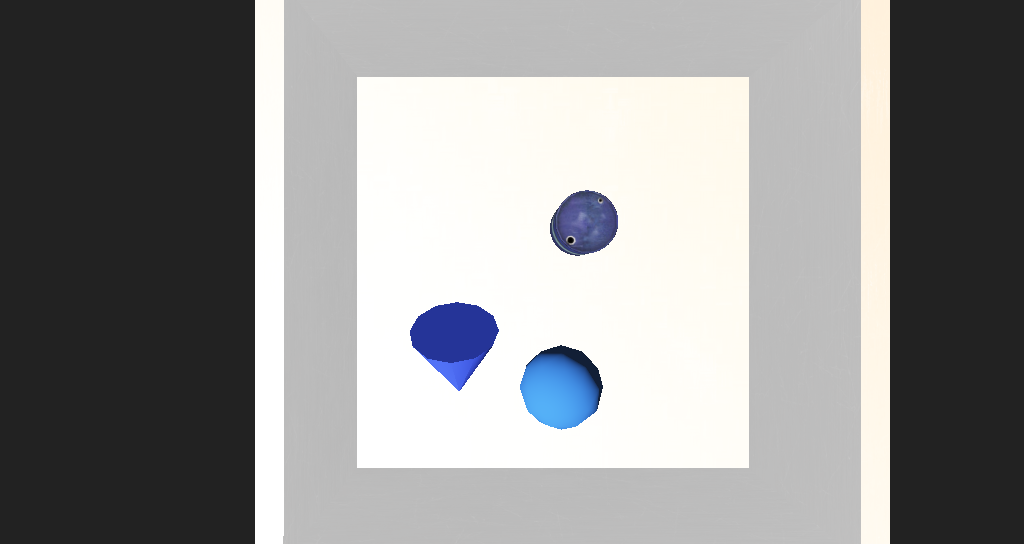cone: (509, 227, 556, 260)
cylinder: (394, 284, 468, 356)
sphere: (482, 305, 542, 353)
